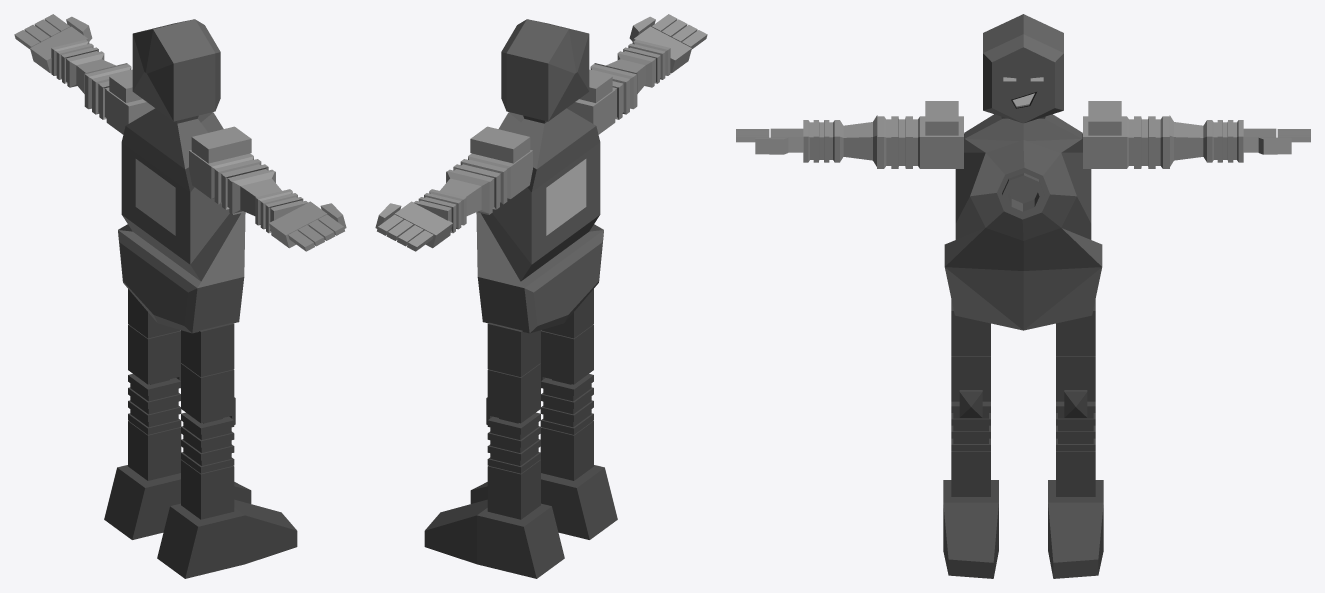
File: 1stRobot_.fbx
The picture shows the model from 3 angles, left to right: view 1: azimuth 30°, elevation 25°; view 2: azimuth 150°, elevation 25°; view 3: azimuth 270°, elevation 25°; orthographic projection.
Visible parts, largest first — view 1: Cube, controller; view 2: Cube, controller; view 3: Cube.
Part boxes in pixels (x1,y1,x2,y2): Cube: [14, 14, 346, 578]; controller: [135, 159, 175, 235]; Cube: [375, 14, 707, 578]; controller: [546, 159, 586, 235]; Cube: [736, 14, 1310, 578].
Bounding box in the file's own units: 47.4 × 193 × 196.
